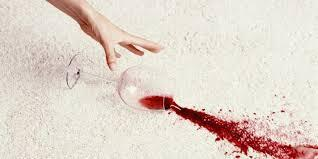oil: (152, 91, 318, 157)
